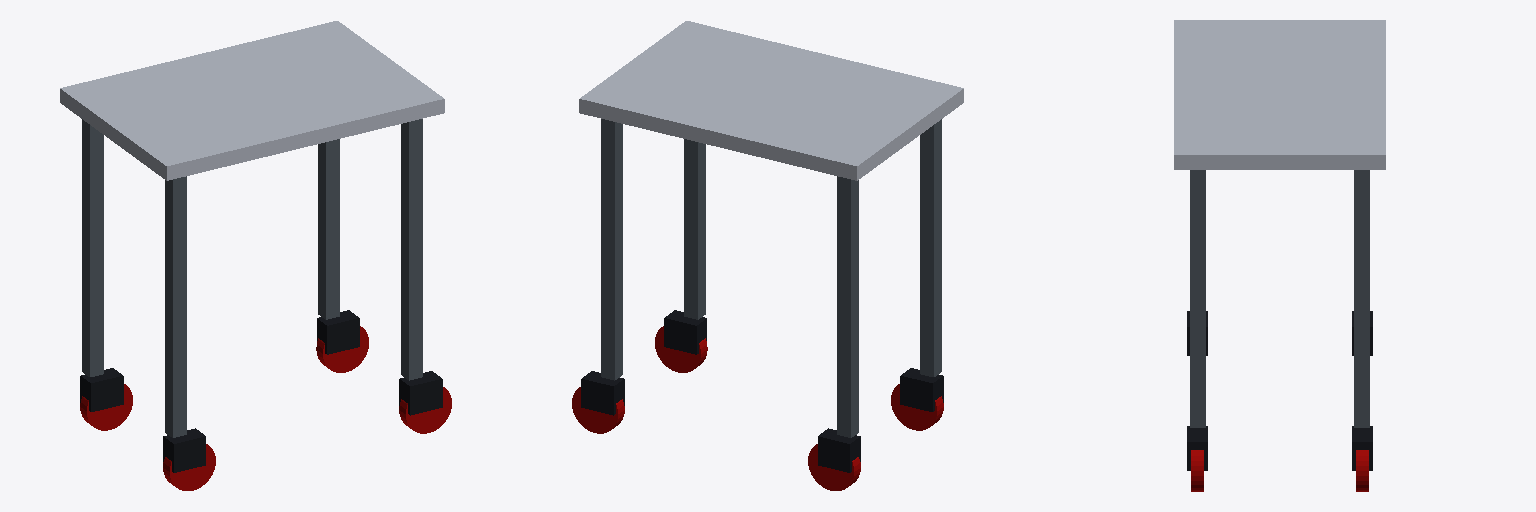
robot.urdf — rml63ii_mobile_table:
<?xml version="1.0"?>
<!--
  文件功能：定义供 Gazebo Classic 复用的 600 x 400 mm 非锚定移动工作台。

  工作台坐标系位于台面中心向地面的投影处，因此台面上表面正好为
  z=0.700 m。本文件是可复用的非锚定组件；prepare_gazebo_urdf.py 会在
  组合模型中安装机械臂，并且仅在锁定版本中添加世界固定关节。

  质量和惯性是仿真近似值，不代表真实小车的测量结果。
-->
<robot name="rml63ii_mobile_table">
  <material name="table_top_light">
    <color rgba="0.72 0.74 0.78 1"/>
  </material>
  <material name="table_frame_gray">
    <color rgba="0.34 0.37 0.40 1"/>
  </material>
  <material name="caster_dark">
    <color rgba="0.12 0.13 0.15 1"/>
  </material>
  <material name="wheel_red">
    <color rgba="0.65 0.06 0.05 1"/>
  </material>

  <!-- 根坐标系：台面中心投影到地面的位置。保持该根链接无质量，以便
       robot_state_publisher/KDL 接受它作为根链接。 -->
  <link name="table_base_link"/>

  <link name="table_body_link">
    <inertial>
      <origin xyz="0 0 0.32" rpy="0 0 0"/>
      <!-- 低位配重使小车成为较重且不头重脚轻的底座。车轮/脚轮仍保留其真实
           小部件质量。 -->
      <mass value="240.0"/>
      <inertia ixx="13.000" ixy="0" ixz="0"
               iyy="17.000" iyz="0" izz="10.400"/>
    </inertial>

    <visual name="tabletop_visual">
      <origin xyz="0 0 0.685" rpy="0 0 0"/>
      <geometry><box size="0.600 0.400 0.030"/></geometry>
      <material name="table_top_light"/>
    </visual>
    <collision name="tabletop_collision">
      <origin xyz="0 0 0.685" rpy="0 0 0"/>
      <geometry><box size="0.600 0.400 0.030"/></geometry>
    </collision>

    <visual name="front_left_leg_visual">
      <origin xyz="0.255 0.155 0.395" rpy="0 0 0"/>
      <geometry><box size="0.030 0.030 0.550"/></geometry>
      <material name="table_frame_gray"/>
    </visual>
    <collision name="front_left_leg_collision">
      <origin xyz="0.255 0.155 0.395" rpy="0 0 0"/>
      <geometry><box size="0.030 0.030 0.550"/></geometry>
    </collision>

    <visual name="front_right_leg_visual">
      <origin xyz="0.255 -0.155 0.395" rpy="0 0 0"/>
      <geometry><box size="0.030 0.030 0.550"/></geometry>
      <material name="table_frame_gray"/>
    </visual>
    <collision name="front_right_leg_collision">
      <origin xyz="0.255 -0.155 0.395" rpy="0 0 0"/>
      <geometry><box size="0.030 0.030 0.550"/></geometry>
    </collision>

    <visual name="rear_left_leg_visual">
      <origin xyz="-0.255 0.155 0.395" rpy="0 0 0"/>
      <geometry><box size="0.030 0.030 0.550"/></geometry>
      <material name="table_frame_gray"/>
    </visual>
    <collision name="rear_left_leg_collision">
      <origin xyz="-0.255 0.155 0.395" rpy="0 0 0"/>
      <geometry><box size="0.030 0.030 0.550"/></geometry>
    </collision>

    <visual name="rear_right_leg_visual">
      <origin xyz="-0.255 -0.155 0.395" rpy="0 0 0"/>
      <geometry><box size="0.030 0.030 0.550"/></geometry>
      <material name="table_frame_gray"/>
    </visual>
    <collision name="rear_right_leg_collision">
      <origin xyz="-0.255 -0.155 0.395" rpy="0 0 0"/>
      <geometry><box size="0.030 0.030 0.550"/></geometry>
    </collision>
  </link>

  <joint name="table_body_joint" type="fixed">
    <origin xyz="0 0 0" rpy="0 0 0"/>
    <parent link="table_base_link"/>
    <child link="table_body_link"/>
  </joint>

  <!-- 每个脚轮都有竖直旋转轴，轮子位于旋转轴后方 30 mm。 -->
  <joint name="front_left_caster_swivel_joint" type="continuous">
    <origin xyz="0.255 0.155 0.110" rpy="0 0 0"/>
    <parent link="table_body_link"/>
    <child link="front_left_caster_link"/>
    <axis xyz="0 0 1"/>
    <limit effort="2.0" velocity="10.0"/>
    <dynamics damping="0.50" friction="0.50"/>
  </joint>
  <link name="front_left_caster_link">
    <inertial>
      <origin xyz="0.020 0 -0.030" rpy="0 0 0"/>
      <mass value="0.2"/>
      <inertia ixx="0.00010" ixy="0" ixz="0"
               iyy="0.00015" iyz="0" izz="0.00010"/>
    </inertial>
    <visual name="front_left_caster_visual">
      <origin xyz="0.020 0 -0.030" rpy="0 0 0"/>
      <geometry><box size="0.070 0.040 0.060"/></geometry>
      <material name="caster_dark"/>
    </visual>
    <collision name="front_left_caster_collision">
      <origin xyz="0.020 0 -0.030" rpy="0 0 0"/>
      <geometry><box size="0.070 0.040 0.060"/></geometry>
    </collision>
  </link>
  <joint name="front_left_wheel_joint" type="continuous">
    <origin xyz="0.030 0 -0.060" rpy="0 0 0"/>
    <parent link="front_left_caster_link"/>
    <child link="front_left_wheel_link"/>
    <axis xyz="0 1 0"/>
    <limit effort="5.0" velocity="20.0"/>
    <dynamics damping="0.20" friction="0.20"/>
  </joint>
  <link name="front_left_wheel_link">
    <inertial>
      <origin xyz="0 0 0" rpy="0 0 0"/>
      <mass value="0.3"/>
      <inertia ixx="0.000203125" ixy="0" ixz="0"
               iyy="0.000375" iyz="0" izz="0.000203125"/>
    </inertial>
    <visual name="front_left_wheel_visual">
      <origin xyz="0 0 0" rpy="1.57079632679 0 0"/>
      <geometry><cylinder radius="0.050" length="0.025"/></geometry>
      <material name="wheel_red"/>
    </visual>
    <collision name="front_left_wheel_collision">
      <origin xyz="0 0 0" rpy="1.57079632679 0 0"/>
      <geometry><cylinder radius="0.050" length="0.025"/></geometry>
    </collision>
  </link>

  <joint name="front_right_caster_swivel_joint" type="continuous">
    <origin xyz="0.255 -0.155 0.110" rpy="0 0 0"/>
    <parent link="table_body_link"/>
    <child link="front_right_caster_link"/>
    <axis xyz="0 0 1"/>
    <limit effort="2.0" velocity="10.0"/>
    <dynamics damping="0.50" friction="0.50"/>
  </joint>
  <link name="front_right_caster_link">
    <inertial>
      <origin xyz="0.020 0 -0.030" rpy="0 0 0"/>
      <mass value="0.2"/>
      <inertia ixx="0.00010" ixy="0" ixz="0"
               iyy="0.00015" iyz="0" izz="0.00010"/>
    </inertial>
    <visual name="front_right_caster_visual">
      <origin xyz="0.020 0 -0.030" rpy="0 0 0"/>
      <geometry><box size="0.070 0.040 0.060"/></geometry>
      <material name="caster_dark"/>
    </visual>
    <collision name="front_right_caster_collision">
      <origin xyz="0.020 0 -0.030" rpy="0 0 0"/>
      <geometry><box size="0.070 0.040 0.060"/></geometry>
    </collision>
  </link>
  <joint name="front_right_wheel_joint" type="continuous">
    <origin xyz="0.030 0 -0.060" rpy="0 0 0"/>
    <parent link="front_right_caster_link"/>
    <child link="front_right_wheel_link"/>
    <axis xyz="0 1 0"/>
    <limit effort="5.0" velocity="20.0"/>
    <dynamics damping="0.20" friction="0.20"/>
  </joint>
  <link name="front_right_wheel_link">
    <inertial>
      <origin xyz="0 0 0" rpy="0 0 0"/>
      <mass value="0.3"/>
      <inertia ixx="0.000203125" ixy="0" ixz="0"
               iyy="0.000375" iyz="0" izz="0.000203125"/>
    </inertial>
    <visual name="front_right_wheel_visual">
      <origin xyz="0 0 0" rpy="1.57079632679 0 0"/>
      <geometry><cylinder radius="0.050" length="0.025"/></geometry>
      <material name="wheel_red"/>
    </visual>
    <collision name="front_right_wheel_collision">
      <origin xyz="0 0 0" rpy="1.57079632679 0 0"/>
      <geometry><cylinder radius="0.050" length="0.025"/></geometry>
    </collision>
  </link>

  <joint name="rear_left_caster_swivel_joint" type="continuous">
    <origin xyz="-0.255 0.155 0.110" rpy="0 0 0"/>
    <parent link="table_body_link"/>
    <child link="rear_left_caster_link"/>
    <axis xyz="0 0 1"/>
    <limit effort="2.0" velocity="10.0"/>
    <dynamics damping="0.50" friction="0.50"/>
  </joint>
  <link name="rear_left_caster_link">
    <inertial>
      <origin xyz="0.020 0 -0.030" rpy="0 0 0"/>
      <mass value="0.2"/>
      <inertia ixx="0.00010" ixy="0" ixz="0"
               iyy="0.00015" iyz="0" izz="0.00010"/>
    </inertial>
    <visual name="rear_left_caster_visual">
      <origin xyz="0.020 0 -0.030" rpy="0 0 0"/>
      <geometry><box size="0.070 0.040 0.060"/></geometry>
      <material name="caster_dark"/>
    </visual>
    <collision name="rear_left_caster_collision">
      <origin xyz="0.020 0 -0.030" rpy="0 0 0"/>
      <geometry><box size="0.070 0.040 0.060"/></geometry>
    </collision>
  </link>
  <joint name="rear_left_wheel_joint" type="continuous">
    <origin xyz="0.030 0 -0.060" rpy="0 0 0"/>
    <parent link="rear_left_caster_link"/>
    <child link="rear_left_wheel_link"/>
    <axis xyz="0 1 0"/>
    <limit effort="5.0" velocity="20.0"/>
    <dynamics damping="0.20" friction="0.20"/>
  </joint>
  <link name="rear_left_wheel_link">
    <inertial>
      <origin xyz="0 0 0" rpy="0 0 0"/>
      <mass value="0.3"/>
      <inertia ixx="0.000203125" ixy="0" ixz="0"
               iyy="0.000375" iyz="0" izz="0.000203125"/>
    </inertial>
    <visual name="rear_left_wheel_visual">
      <origin xyz="0 0 0" rpy="1.57079632679 0 0"/>
      <geometry><cylinder radius="0.050" length="0.025"/></geometry>
      <material name="wheel_red"/>
    </visual>
    <collision name="rear_left_wheel_collision">
      <origin xyz="0 0 0" rpy="1.57079632679 0 0"/>
      <geometry><cylinder radius="0.050" length="0.025"/></geometry>
    </collision>
  </link>

  <joint name="rear_right_caster_swivel_joint" type="continuous">
    <origin xyz="-0.255 -0.155 0.110" rpy="0 0 0"/>
    <parent link="table_body_link"/>
    <child link="rear_right_caster_link"/>
    <axis xyz="0 0 1"/>
    <limit effort="2.0" velocity="10.0"/>
    <dynamics damping="0.50" friction="0.50"/>
  </joint>
  <link name="rear_right_caster_link">
    <inertial>
      <origin xyz="0.020 0 -0.030" rpy="0 0 0"/>
      <mass value="0.2"/>
      <inertia ixx="0.00010" ixy="0" ixz="0"
               iyy="0.00015" iyz="0" izz="0.00010"/>
    </inertial>
    <visual name="rear_right_caster_visual">
      <origin xyz="0.020 0 -0.030" rpy="0 0 0"/>
      <geometry><box size="0.070 0.040 0.060"/></geometry>
      <material name="caster_dark"/>
    </visual>
    <collision name="rear_right_caster_collision">
      <origin xyz="0.020 0 -0.030" rpy="0 0 0"/>
      <geometry><box size="0.070 0.040 0.060"/></geometry>
    </collision>
  </link>
  <joint name="rear_right_wheel_joint" type="continuous">
    <origin xyz="0.030 0 -0.060" rpy="0 0 0"/>
    <parent link="rear_right_caster_link"/>
    <child link="rear_right_wheel_link"/>
    <axis xyz="0 1 0"/>
    <limit effort="5.0" velocity="20.0"/>
    <dynamics damping="0.20" friction="0.20"/>
  </joint>
  <link name="rear_right_wheel_link">
    <inertial>
      <origin xyz="0 0 0" rpy="0 0 0"/>
      <mass value="0.3"/>
      <inertia ixx="0.000203125" ixy="0" ixz="0"
               iyy="0.000375" iyz="0" izz="0.000203125"/>
    </inertial>
    <visual name="rear_right_wheel_visual">
      <origin xyz="0 0 0" rpy="1.57079632679 0 0"/>
      <geometry><cylinder radius="0.050" length="0.025"/></geometry>
      <material name="wheel_red"/>
    </visual>
    <collision name="rear_right_wheel_collision">
      <origin xyz="0 0 0" rpy="1.57079632679 0 0"/>
      <geometry><cylinder radius="0.050" length="0.025"/></geometry>
    </collision>
  </link>

  <!-- 注册被动脚轮关节，使 JointStateController 能够报告这些关节。 -->
  <transmission name="front_left_caster_swivel_transmission">
    <type>transmission_interface/SimpleTransmission</type>
    <joint name="front_left_caster_swivel_joint">
      <hardwareInterface>hardware_interface/EffortJointInterface</hardwareInterface>
    </joint>
    <actuator name="front_left_caster_swivel_actuator">
      <hardwareInterface>hardware_interface/EffortJointInterface</hardwareInterface>
      <mechanicalReduction>1</mechanicalReduction>
    </actuator>
  </transmission>
  <transmission name="front_left_wheel_transmission">
    <type>transmission_interface/SimpleTransmission</type>
    <joint name="front_left_wheel_joint">
      <hardwareInterface>hardware_interface/EffortJointInterface</hardwareInterface>
    </joint>
    <actuator name="front_left_wheel_actuator">
      <hardwareInterface>hardware_interface/EffortJointInterface</hardwareInterface>
      <mechanicalReduction>1</mechanicalReduction>
    </actuator>
  </transmission>
  <transmission name="front_right_caster_swivel_transmission">
    <type>transmission_interface/SimpleTransmission</type>
    <joint name="front_right_caster_swivel_joint">
      <hardwareInterface>hardware_interface/EffortJointInterface</hardwareInterface>
    </joint>
    <actuator name="front_right_caster_swivel_actuator">
      <hardwareInterface>hardware_interface/EffortJointInterface</hardwareInterface>
      <mechanicalReduction>1</mechanicalReduction>
    </actuator>
  </transmission>
  <transmission name="front_right_wheel_transmission">
    <type>transmission_interface/SimpleTransmission</type>
    <joint name="front_right_wheel_joint">
      <hardwareInterface>hardware_interface/EffortJointInterface</hardwareInterface>
    </joint>
    <actuator name="front_right_wheel_actuator">
      <hardwareInterface>hardware_interface/EffortJointInterface</hardwareInterface>
      <mechanicalReduction>1</mechanicalReduction>
    </actuator>
  </transmission>
  <transmission name="rear_left_caster_swivel_transmission">
    <type>transmission_interface/SimpleTransmission</type>
    <joint name="rear_left_caster_swivel_joint">
      <hardwareInterface>hardware_interface/EffortJointInterface</hardwareInterface>
    </joint>
    <actuator name="rear_left_caster_swivel_actuator">
      <hardwareInterface>hardware_interface/EffortJointInterface</hardwareInterface>
      <mechanicalReduction>1</mechanicalReduction>
    </actuator>
  </transmission>
  <transmission name="rear_left_wheel_transmission">
    <type>transmission_interface/SimpleTransmission</type>
    <joint name="rear_left_wheel_joint">
      <hardwareInterface>hardware_interface/EffortJointInterface</hardwareInterface>
    </joint>
    <actuator name="rear_left_wheel_actuator">
      <hardwareInterface>hardware_interface/EffortJointInterface</hardwareInterface>
      <mechanicalReduction>1</mechanicalReduction>
    </actuator>
  </transmission>
  <transmission name="rear_right_caster_swivel_transmission">
    <type>transmission_interface/SimpleTransmission</type>
    <joint name="rear_right_caster_swivel_joint">
      <hardwareInterface>hardware_interface/EffortJointInterface</hardwareInterface>
    </joint>
    <actuator name="rear_right_caster_swivel_actuator">
      <hardwareInterface>hardware_interface/EffortJointInterface</hardwareInterface>
      <mechanicalReduction>1</mechanicalReduction>
    </actuator>
  </transmission>
  <transmission name="rear_right_wheel_transmission">
    <type>transmission_interface/SimpleTransmission</type>
    <joint name="rear_right_wheel_joint">
      <hardwareInterface>hardware_interface/EffortJointInterface</hardwareInterface>
    </joint>
    <actuator name="rear_right_wheel_actuator">
      <hardwareInterface>hardware_interface/EffortJointInterface</hardwareInterface>
      <mechanicalReduction>1</mechanicalReduction>
    </actuator>
  </transmission>

  <gazebo reference="table_body_link">
    <mu1>0.8</mu1>
    <mu2>0.8</mu2>
    <kp>1000000</kp>
    <kd>10</kd>
    <maxVel>0.1</maxVel>
    <minDepth>0.001</minDepth>
  </gazebo>
  <gazebo reference="front_left_wheel_link">
    <mu1>0.8</mu1><mu2>0.8</mu2><kp>1000000</kp><kd>10</kd>
    <maxVel>0.1</maxVel><minDepth>0.001</minDepth>
  </gazebo>
  <gazebo reference="front_right_wheel_link">
    <mu1>0.8</mu1><mu2>0.8</mu2><kp>1000000</kp><kd>10</kd>
    <maxVel>0.1</maxVel><minDepth>0.001</minDepth>
  </gazebo>
  <gazebo reference="rear_left_wheel_link">
    <mu1>0.8</mu1><mu2>0.8</mu2><kp>1000000</kp><kd>10</kd>
    <maxVel>0.1</maxVel><minDepth>0.001</minDepth>
  </gazebo>
  <gazebo reference="rear_right_wheel_link">
    <mu1>0.8</mu1><mu2>0.8</mu2><kp>1000000</kp><kd>10</kd>
    <maxVel>0.1</maxVel><minDepth>0.001</minDepth>
  </gazebo>
</robot>

--- What the picture shows (computed from the rendered views, not written in the file) ---
Views: 3 orthographic renders of the robot side by side, from view 1: azimuth 30°, elevation 25°; view 2: azimuth 150°, elevation 25°; view 3: azimuth 270°, elevation 25°.
Robot: rml63ii_mobile_table — 10 links, 9 joints (8 continuous, 1 fixed); root link table_base_link; default pose: every joint at zero.
Visible links, largest first — view 1: table_body_link, front_right_caster_link, rear_left_caster_link, front_left_caster_link, rear_right_caster_link, rear_right_wheel_link, rear_left_wheel_link, front_left_wheel_link, front_right_wheel_link; view 2: table_body_link, front_left_caster_link, rear_right_caster_link, front_right_caster_link, rear_left_caster_link, rear_left_wheel_link, rear_right_wheel_link, front_left_wheel_link, front_right_wheel_link; view 3: table_body_link, front_left_caster_link, front_right_caster_link, front_left_wheel_link, front_right_wheel_link.
Boxes of the visible links, <box> form: table_body_link: <box>60,21,444,437</box>; front_right_caster_link: <box>399,371,442,415</box>; rear_left_caster_link: <box>80,368,123,411</box>; front_left_caster_link: <box>317,310,359,354</box>; rear_right_caster_link: <box>163,428,205,472</box>; rear_right_wheel_link: <box>163,444,215,490</box>; rear_left_wheel_link: <box>80,384,132,430</box>; front_left_wheel_link: <box>316,326,368,372</box>; front_right_wheel_link: <box>399,387,451,433</box>; table_body_link: <box>579,21,963,437</box>; front_left_caster_link: <box>581,371,624,415</box>; rear_right_caster_link: <box>900,368,943,411</box>; front_right_caster_link: <box>664,310,706,354</box>; rear_left_caster_link: <box>818,428,860,472</box>; rear_left_wheel_link: <box>808,444,860,490</box>; rear_right_wheel_link: <box>891,384,943,430</box>; front_left_wheel_link: <box>572,387,624,433</box>; front_right_wheel_link: <box>655,326,707,372</box>; table_body_link: <box>1174,20,1385,427</box>; front_left_caster_link: <box>1352,426,1372,470</box>; front_right_caster_link: <box>1187,426,1207,470</box>; front_left_wheel_link: <box>1356,450,1368,491</box>; front_right_wheel_link: <box>1191,450,1203,491</box>.
Size in the robot's own frame: 0.635 by 0.4 by 0.7 metres.
Geometry: primitives only (box / cylinder / sphere), no mesh files.
